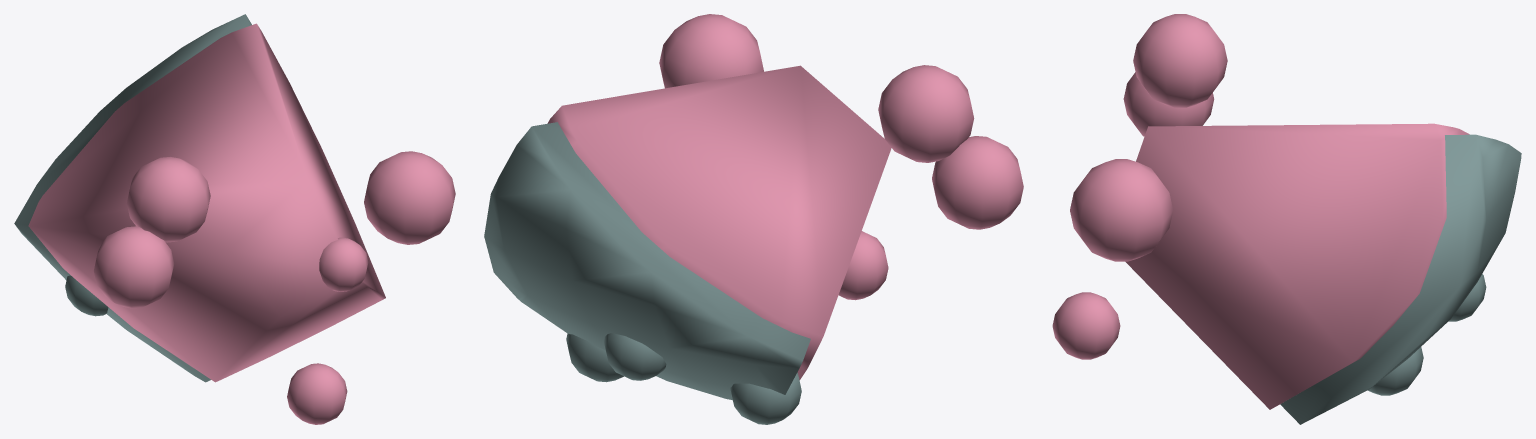
Rendered from chunk29.glb.
The picture shows the model from 3 angles, left to right: view 1: azimuth 30°, elevation 25°; view 2: azimuth 150°, elevation 25°; view 3: azimuth 270°, elevation 25°; orthographic projection. The views are drawn at different scales.
Parts seen in each view (by area): view 1: flesh, skin; view 2: flesh, skin; view 3: flesh, skin.
Boxes of the visible parts, x1,y1,x2,y2 form: flesh: [28, 23, 455, 424]; skin: [14, 14, 251, 382]; flesh: [547, 14, 1023, 379]; skin: [484, 122, 810, 424]; flesh: [1052, 14, 1469, 409]; skin: [1280, 134, 1521, 424].
Bounding box in the file's own units: 0.8699 × 0.6791 × 0.9313.
